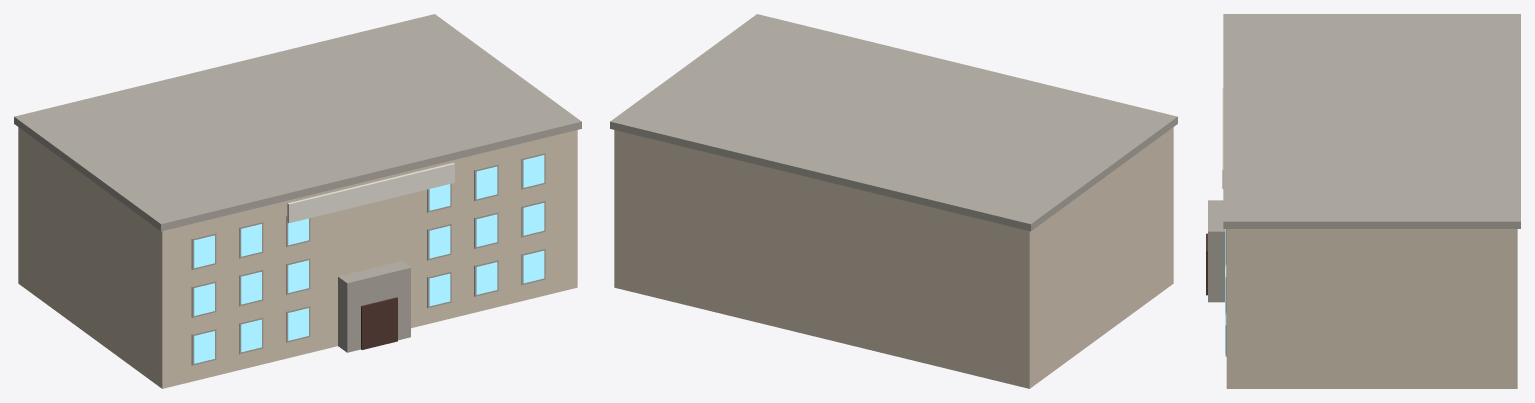
Rendered from town_yeshiva.glb.
3 views of the same model, side by side, from view 1: azimuth 30°, elevation 25°; view 2: azimuth 150°, elevation 25°; view 3: azimuth 270°, elevation 25° (orthographic).
Visible parts, largest first — view 1: TownYeshiva_body; view 2: TownYeshiva_body; view 3: TownYeshiva_body.
Part boxes in pixels (left/top/right/bottom): TownYeshiva_body: left=14, top=14, right=581, bottom=388; TownYeshiva_body: left=610, top=14, right=1177, bottom=388; TownYeshiva_body: left=1206, top=14, right=1520, bottom=388.
Bounding box in the file's own units: 30.4 × 11.5 × 19.47.
